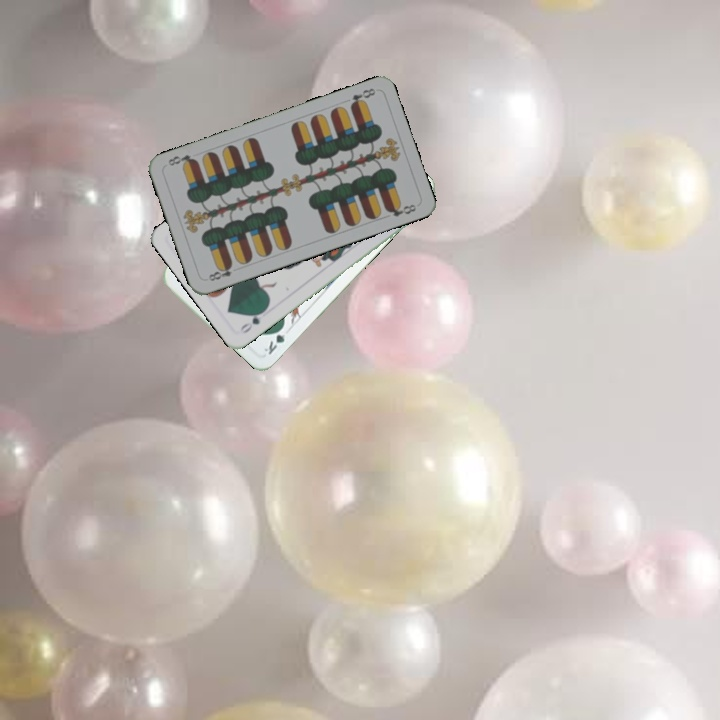E8: (346, 84, 378, 110), (203, 260, 235, 284)
GK: (260, 321, 288, 357)
GO: (236, 305, 269, 336)
